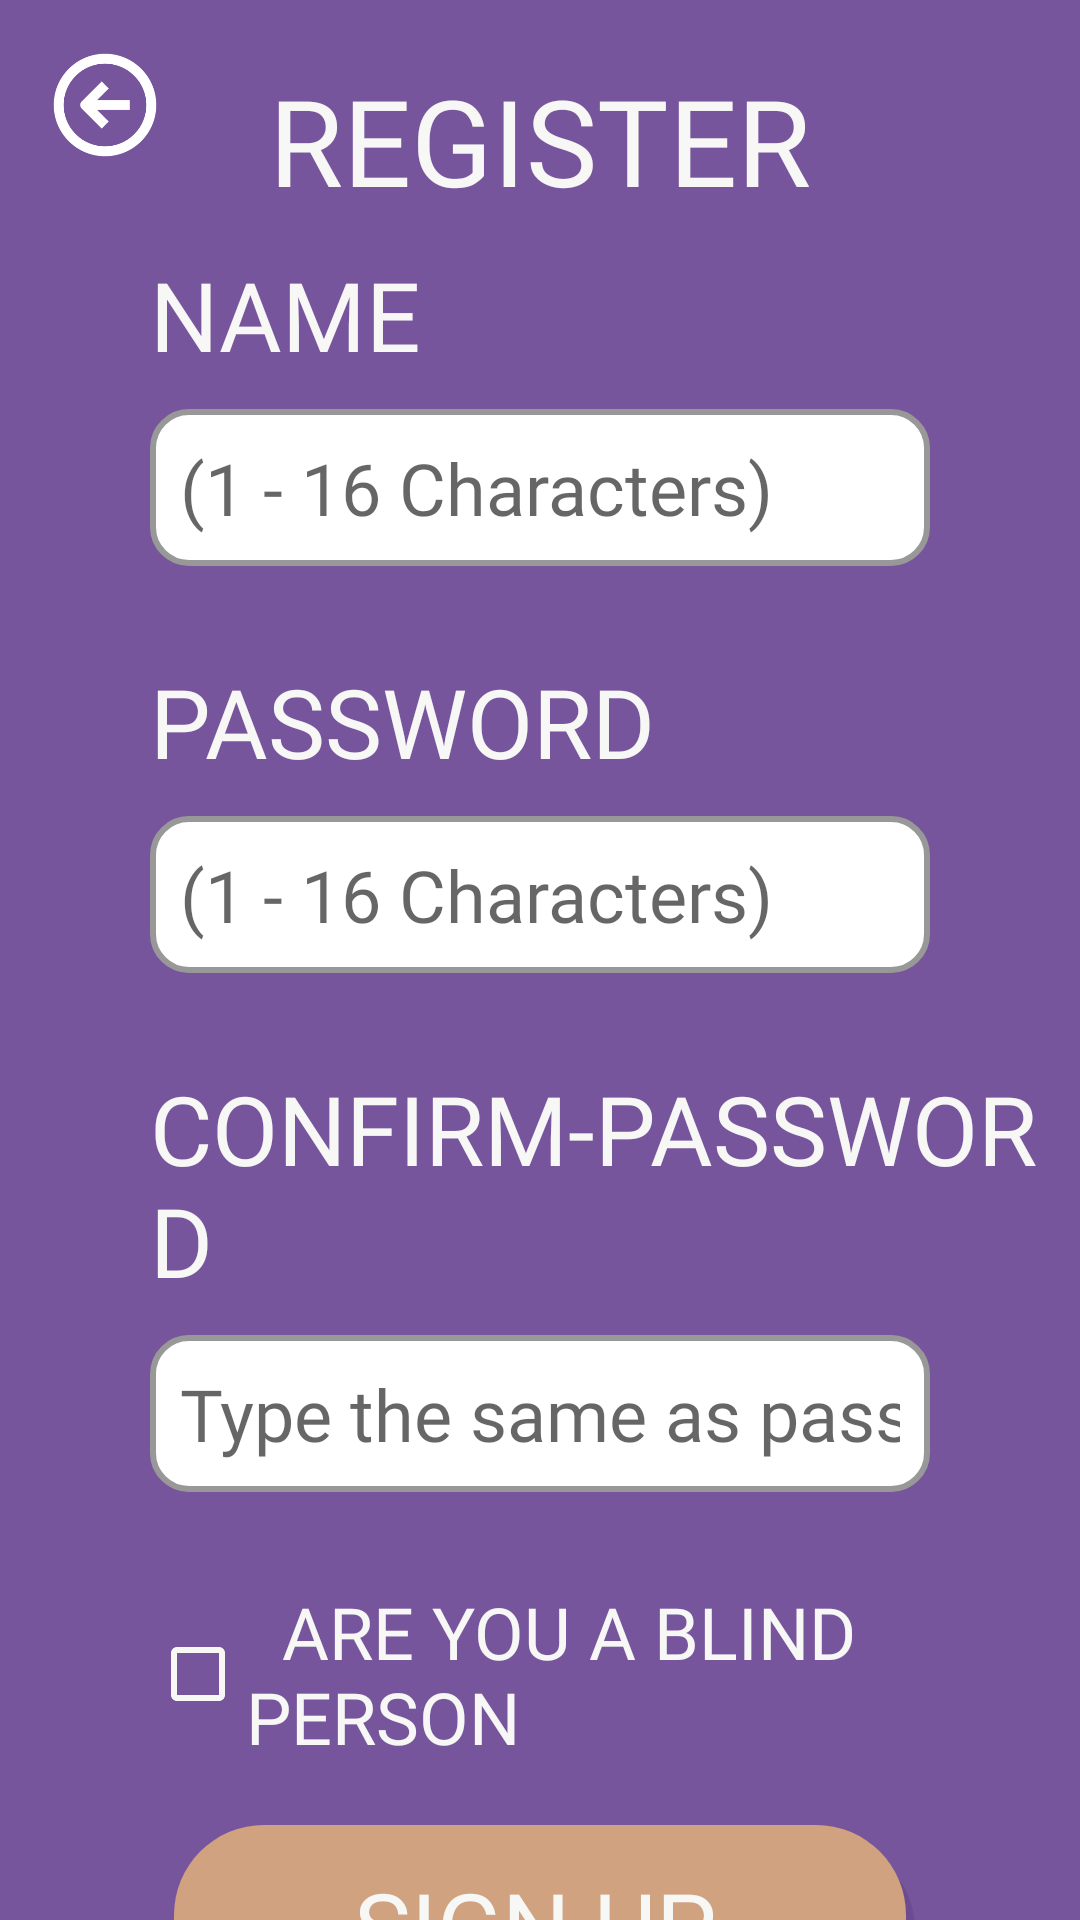

Locate icon controls on the screen. Image size 1080 × 1920, boxes as (x1, y1, x2, y2).
backward: (53, 53, 157, 157)
